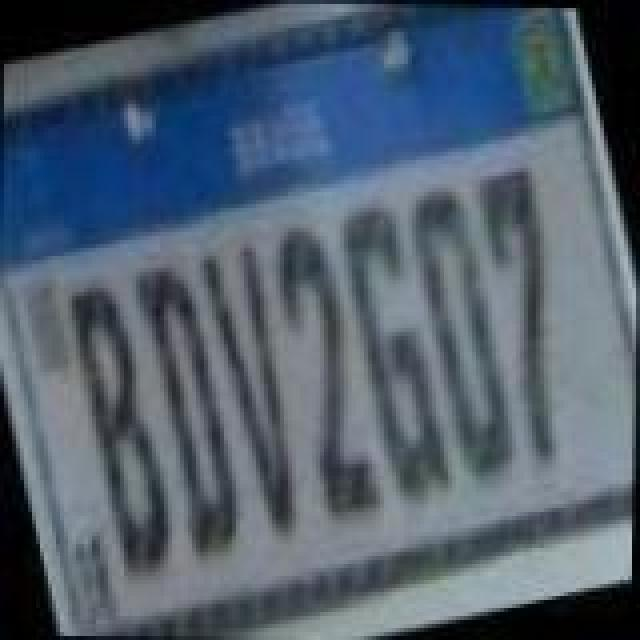2: (256, 212, 396, 528)
7: (464, 154, 604, 470)
B: (58, 274, 190, 582)
D: (124, 252, 260, 564), (394, 178, 530, 486)
G: (324, 196, 464, 508)
V: (194, 236, 326, 544)
